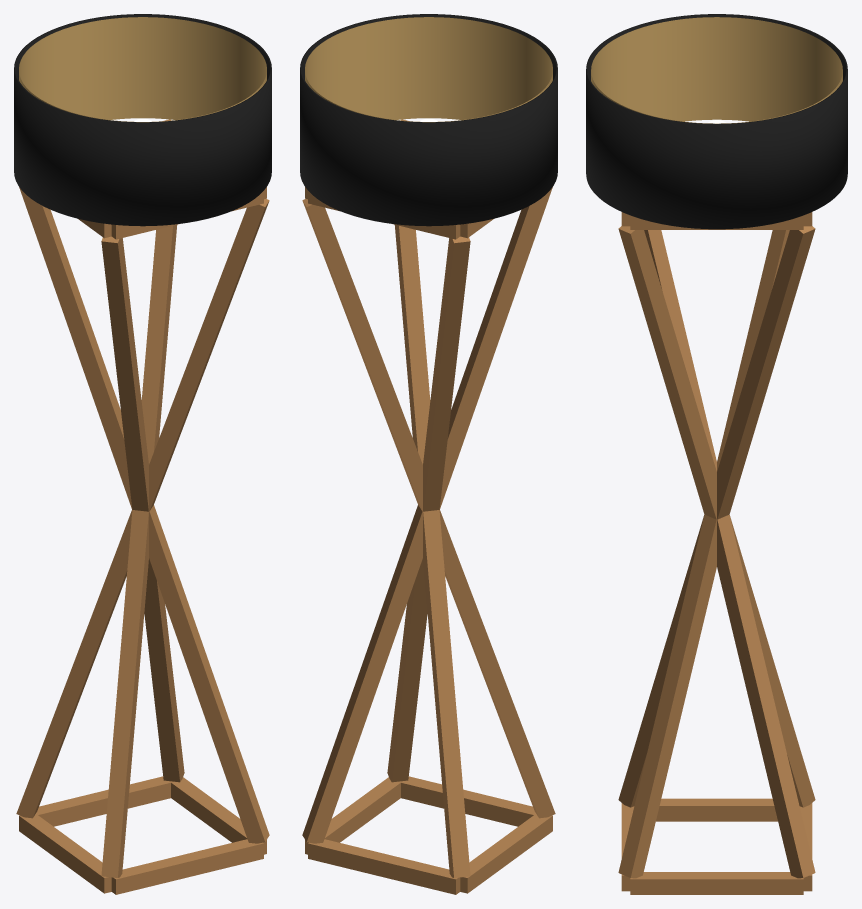
File: model-black.glb
The picture shows the model from 3 angles, left to right: view 1: azimuth 30°, elevation 25°; view 2: azimuth 150°, elevation 25°; view 3: azimuth 270°, elevation 25°; orthographic projection.
Visible parts, largest first — view 1: oz-floor-lamp-stand; view 2: oz-floor-lamp-stand; view 3: oz-floor-lamp-stand.
Part boxes in pixels (box(x1,y1,x2,y2)): oz-floor-lamp-stand: box(14, 14, 271, 894); oz-floor-lamp-stand: box(300, 14, 557, 894); oz-floor-lamp-stand: box(586, 14, 847, 894).
Size of the model in its own units: 0.453 by 1.5 by 0.453.
